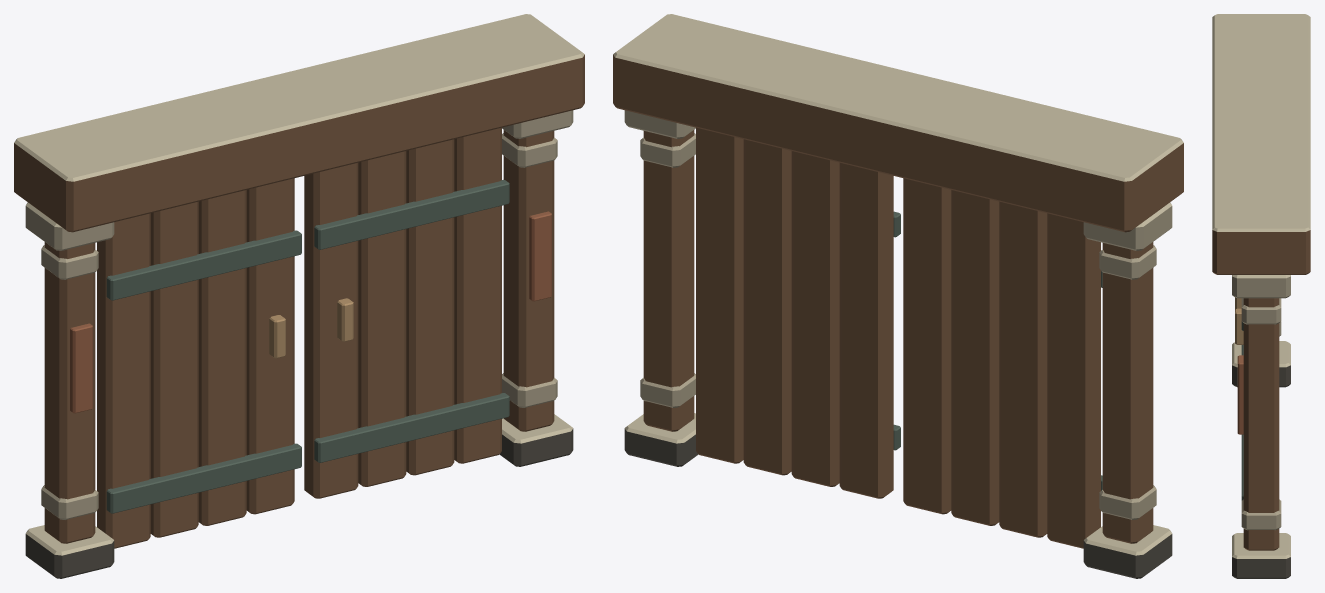
File: doorway.glb
The picture shows the model from 3 angles, left to right: view 1: azimuth 30°, elevation 25°; view 2: azimuth 150°, elevation 25°; view 3: azimuth 270°, elevation 25°; orthographic projection. The views are drawn at different scales.
Visible parts, largest first — view 1: doorway__body, doorway__leaf-right, doorway__leaf-left; view 2: doorway__body, doorway__leaf-right, doorway__leaf-left; view 3: doorway__body, doorway__leaf-right.
Part boxes in pixels (x1,y1,x2,y2): doorway__body: (14, 14, 584, 578); doorway__leaf-right: (304, 127, 509, 498); doorway__leaf-left: (97, 178, 301, 548); doorway__body: (613, 14, 1183, 578); doorway__leaf-right: (696, 127, 900, 498); doorway__leaf-left: (903, 178, 1102, 548); doorway__body: (1212, 14, 1310, 578); doorway__leaf-right: (1235, 308, 1243, 500).
Bounding box in the file's own units: 2.6 × 1.96 × 0.5.
